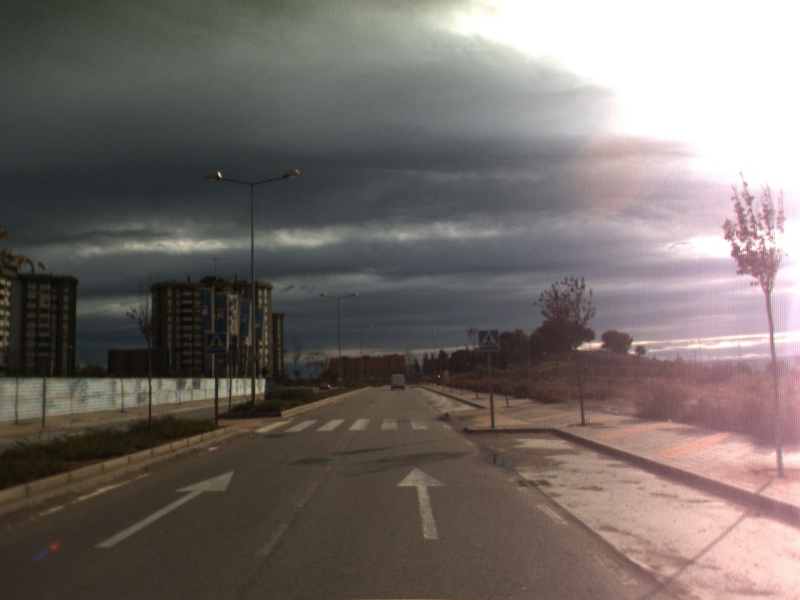STRAIGHT: (91, 468, 237, 550), (394, 465, 449, 541)
